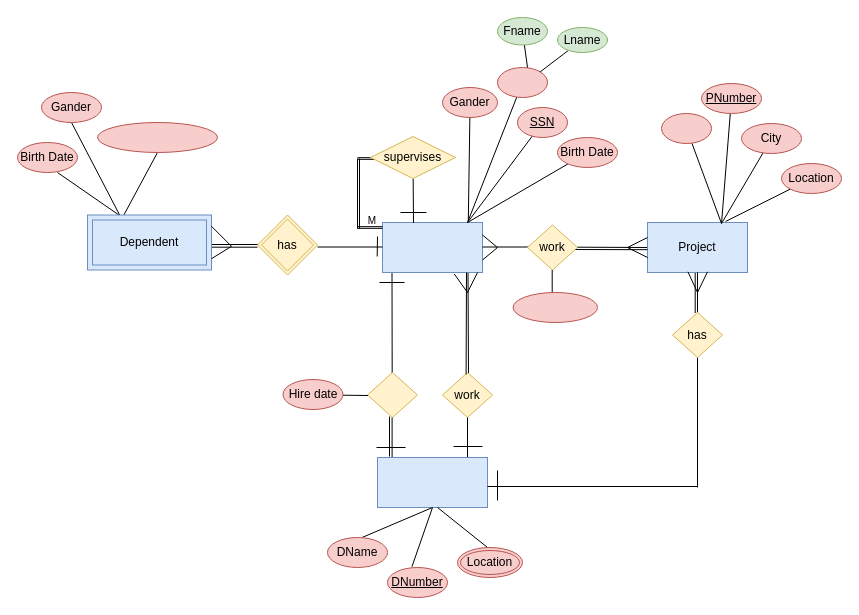
Image size: 859x615. Some labels were removed from this diagram. Here are the shapes that lost their labels. From the top down, the centre of each, then its label:
At point 522,82: "Name".
At point 157,137: "Dependent Name".
At point 686,128: "PName".
At point 432,247: "Employee".
At point 555,307: "No. working hours".
At point 392,395: "mange".
At point 432,482: "Department".
